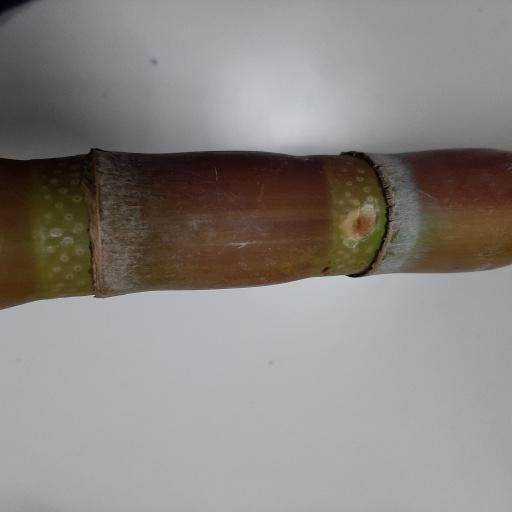Damage_Bud: (341, 202, 380, 246)
